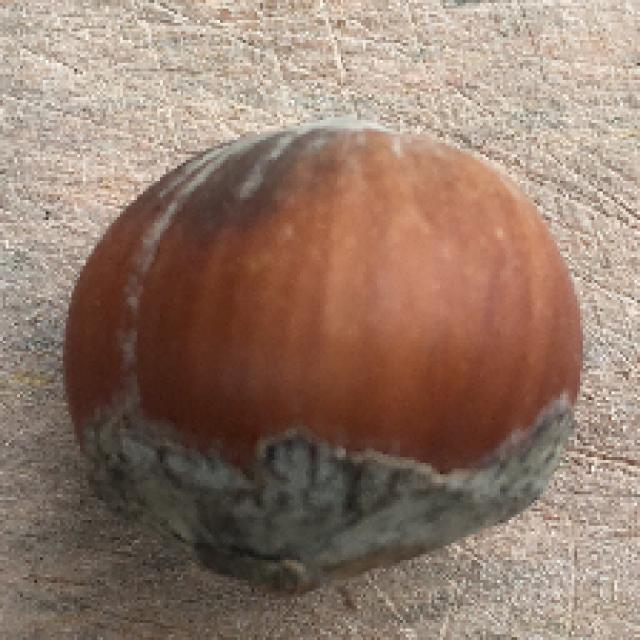damagedHazelnut: (59, 117, 586, 601)
